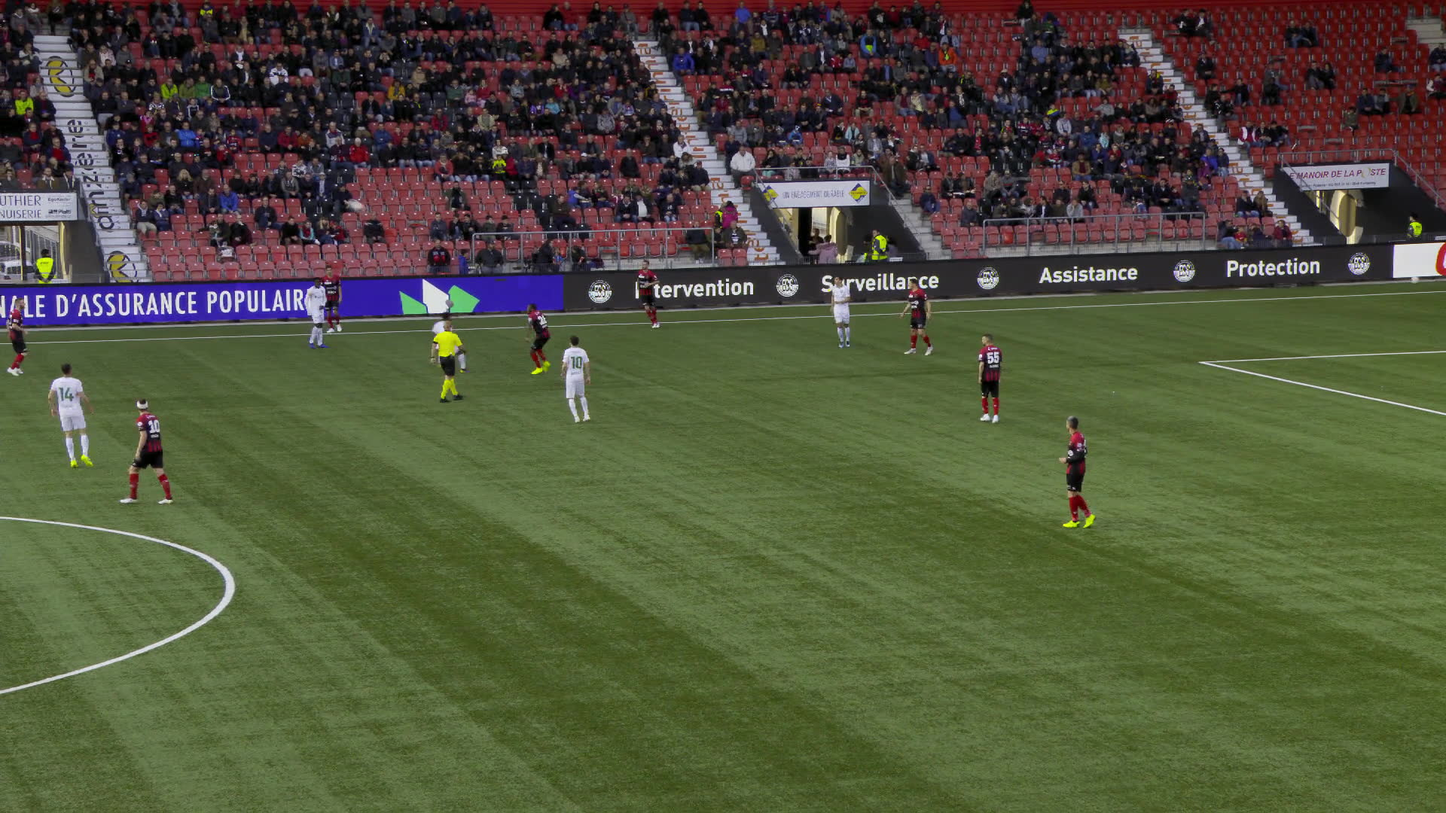ball: (362, 206, 379, 219)
player: (125, 396, 172, 504), (47, 366, 95, 468), (1056, 414, 1092, 527), (560, 334, 591, 422), (898, 278, 932, 355), (424, 311, 464, 373), (977, 333, 1002, 422), (520, 302, 547, 373), (5, 298, 28, 376), (634, 260, 659, 327), (326, 266, 351, 332), (307, 278, 327, 349), (830, 277, 850, 347)
referee: (434, 320, 471, 401)
